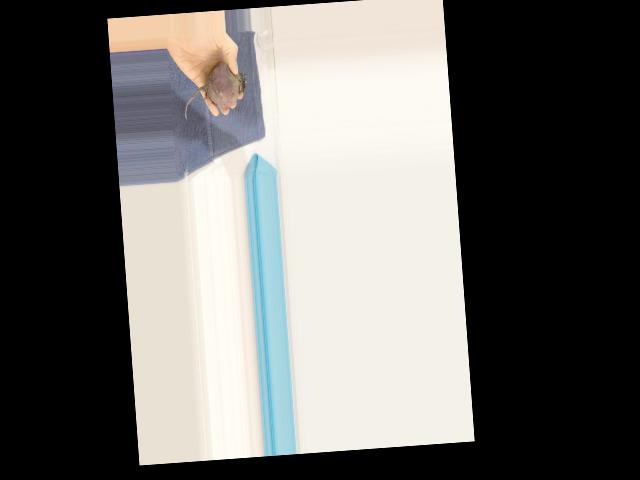beet: (181, 60, 248, 120)
